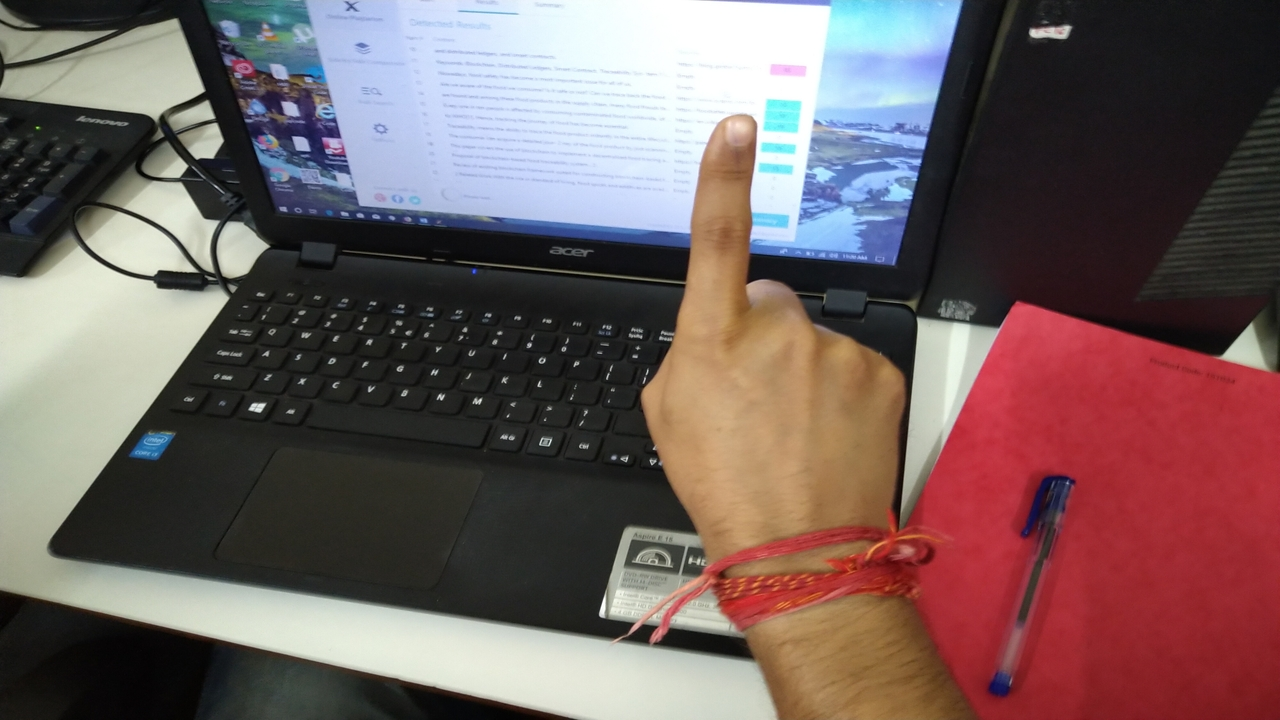fingertip: (1022, 470, 1084, 530), (700, 108, 764, 166)
